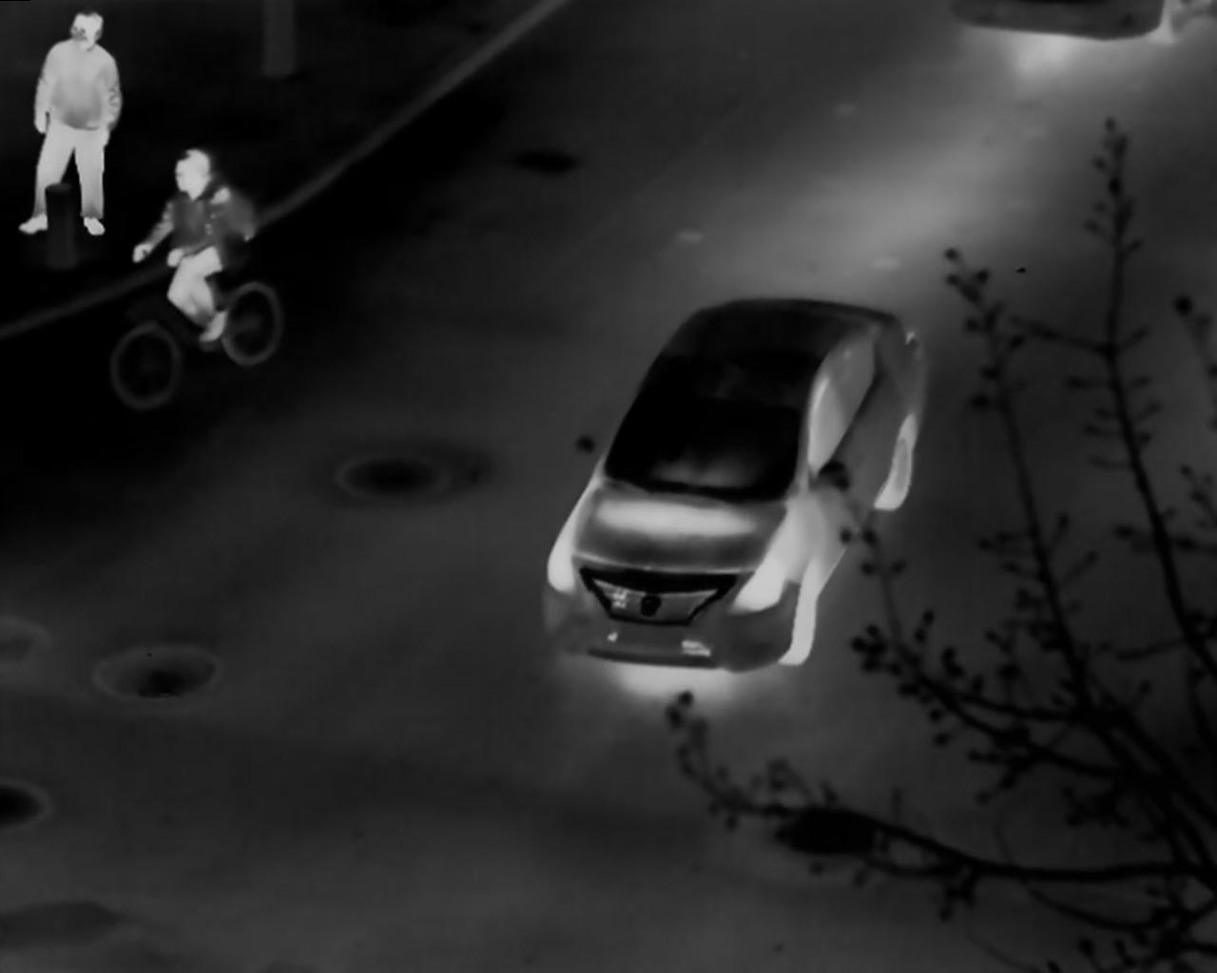person: (130, 149, 256, 343), (18, 10, 125, 236)
